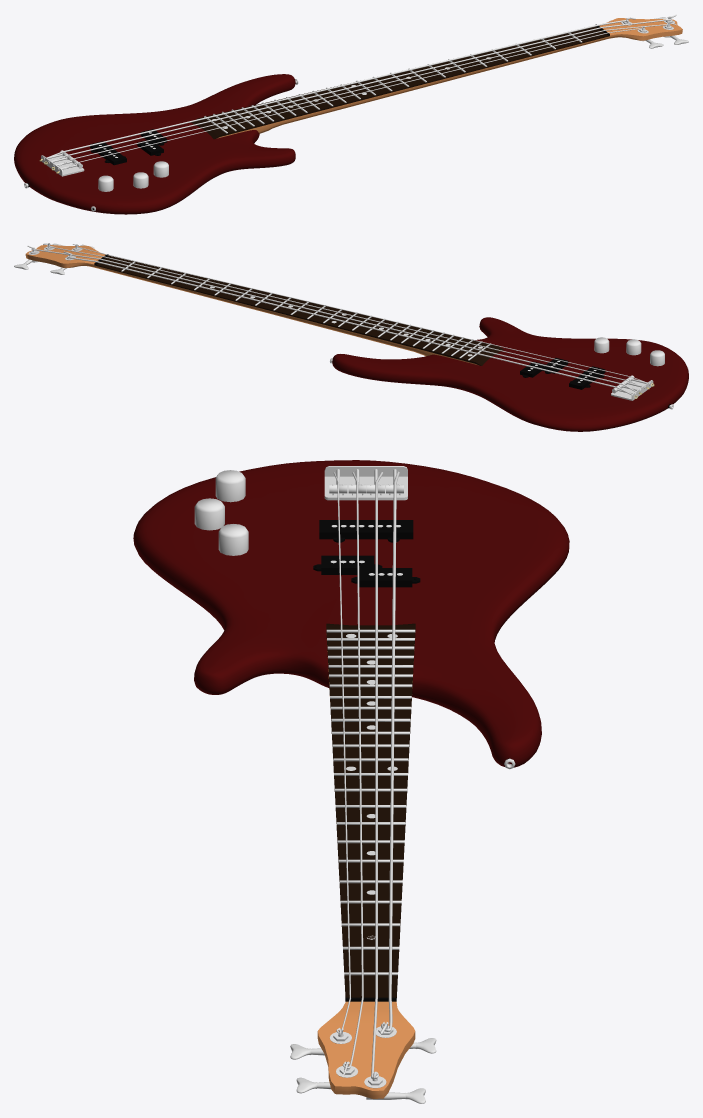
File: Condor_BX12.fbx
3 views of the same model, one above another, from view 1: azimuth 30°, elevation 25°; view 2: azimuth 150°, elevation 25°; view 3: azimuth 270°, elevation 25° (orthographic). The views are drawn at different scales.
Visible parts, largest first — view 1: Body, Neck, String_Path, String_Path.001, String_Path.002, String_Path.003, PickUp.001, Bridge; view 2: Body, Neck, String_Path, String_Path.001, String_Path.002, String_Path.003, PickUp.001, Bridge; view 3: Body, Neck, String_Path, Bridge, String_Path.001, PickUp.001, String_Path.002, String_Path.003, PickUp, PickUp.002.
Part boxes in pixels (x1=…): Body: x1=14, y1=74, x2=295, y2=214; Neck: x1=191, y1=18, x2=682, y2=139; String_Path: x1=42, y1=17, x2=635, y2=159; String_Path.001: x1=51, y1=14, x2=676, y2=160; String_Path.002: x1=54, y1=23, x2=676, y2=168; String_Path.003: x1=59, y1=26, x2=648, y2=171; PickUp.001: x1=90, y1=141, x2=126, y2=165; Bridge: x1=41, y1=155, x2=84, y2=176; Body: x1=332, y1=317, x2=688, y2=431; Neck: x1=25, y1=245, x2=503, y2=365; String_Path: x1=63, y1=251, x2=631, y2=395; String_Path.001: x1=27, y1=245, x2=635, y2=391; String_Path.002: x1=43, y1=243, x2=640, y2=385; String_Path.003: x1=72, y1=244, x2=644, y2=381; PickUp.001: x1=569, y1=366, x2=605, y2=389; Bridge: x1=611, y1=380, x2=653, y2=400; Body: x1=133, y1=460, x2=569, y2=767; Neck: x1=317, y1=623, x2=415, y2=1098; String_Path: x1=380, y1=471, x2=399, y2=1033; Bridge: x1=324, y1=466, x2=407, y2=500; String_Path.001: x1=371, y1=472, x2=383, y2=1079; PickUp.001: x1=319, y1=520, x2=413, y2=542; String_Path.002: x1=342, y1=472, x2=363, y2=1075; String_Path.003: x1=333, y1=472, x2=350, y2=1034; PickUp: x1=351, y1=568, x2=420, y2=587; PickUp.002: x1=313, y1=555, x2=382, y2=574.
Size of the model in its own units: 112 by 4.28 by 32.88.
